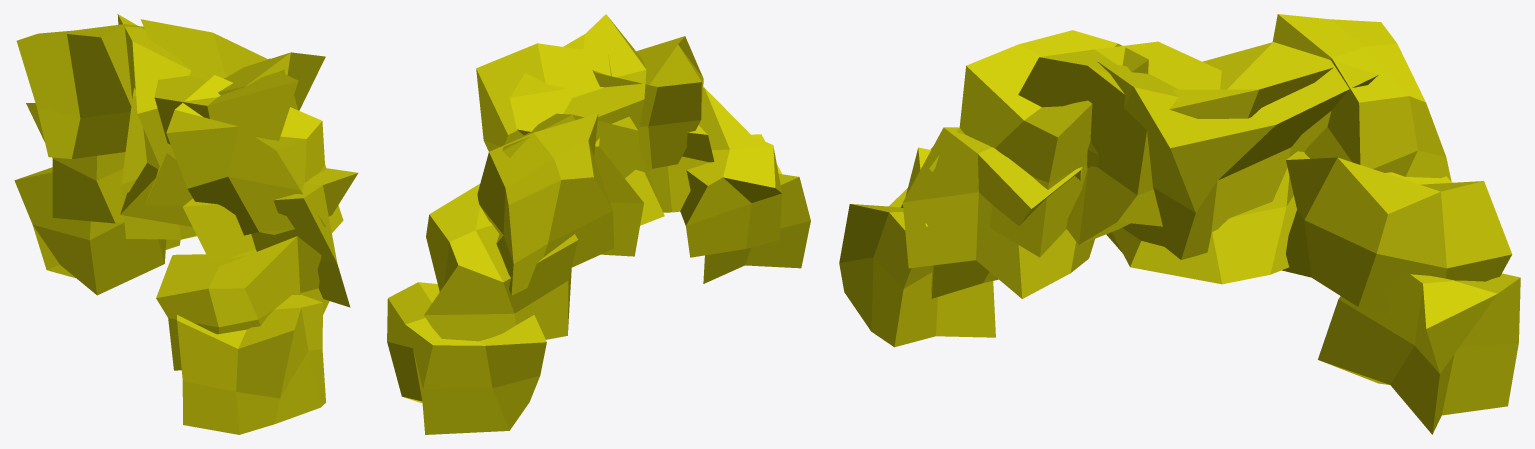
The model's file is big_yellow_stone.fbx.
3 views of the same model, side by side, from view 1: azimuth 30°, elevation 25°; view 2: azimuth 150°, elevation 25°; view 3: azimuth 270°, elevation 25° (orthographic). The views are drawn at different scales.
Visible parts, largest first — view 1: big_yellow_stone; view 2: big_yellow_stone; view 3: big_yellow_stone.
Boxes of the visible parts, box(x1,y1,x2,y2) form: big_yellow_stone: box(14, 14, 358, 434); big_yellow_stone: box(387, 14, 810, 434); big_yellow_stone: box(839, 14, 1520, 434).
Bounding box in the file's own units: 492 × 578 × 993.
